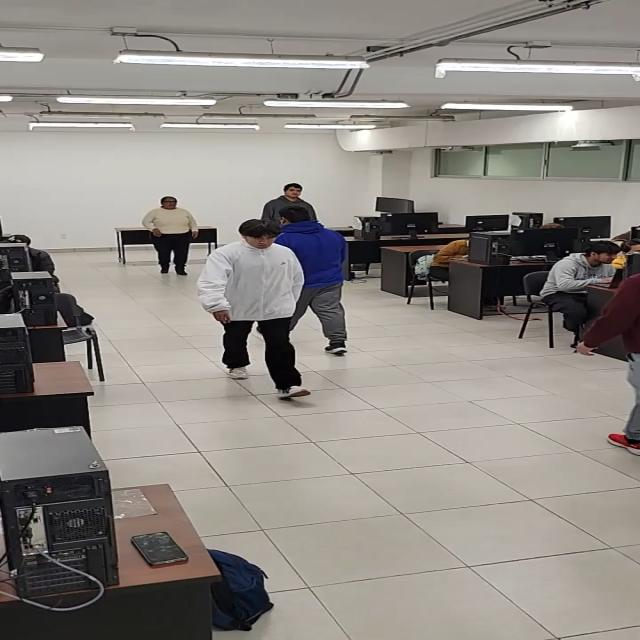Persona: (198, 218, 316, 394), (277, 208, 367, 355), (148, 197, 194, 270), (263, 182, 328, 219)
